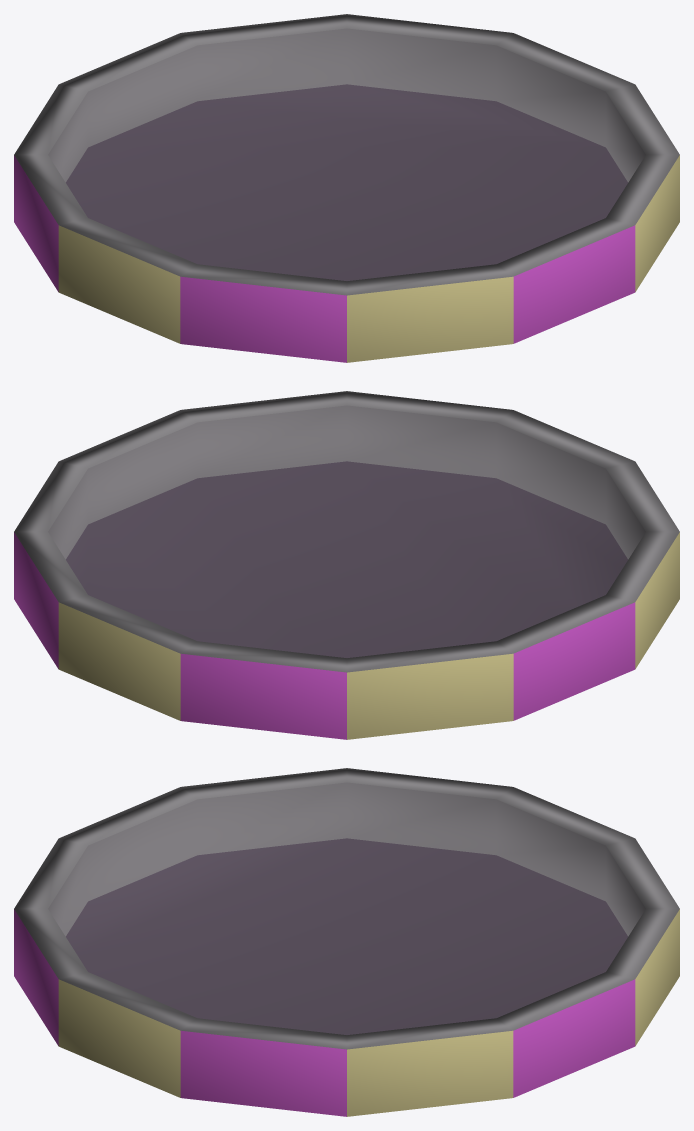
File: smallTower_silo.glb
The picture shows the model from 3 angles, top to bottom: view 1: azimuth 30°, elevation 25°; view 2: azimuth 150°, elevation 25°; view 3: azimuth 270°, elevation 25°; orthographic projection.
Parts seen in each view (by area): view 1: smallTower_silo; view 2: smallTower_silo; view 3: smallTower_silo.
Boxes of the visible parts, bbox=[...] form: smallTower_silo: bbox=[14, 14, 679, 362]; smallTower_silo: bbox=[14, 391, 679, 739]; smallTower_silo: bbox=[14, 768, 679, 1116].
Size of the model in its own units: 0.3325 by 0.0371 by 0.3325.
